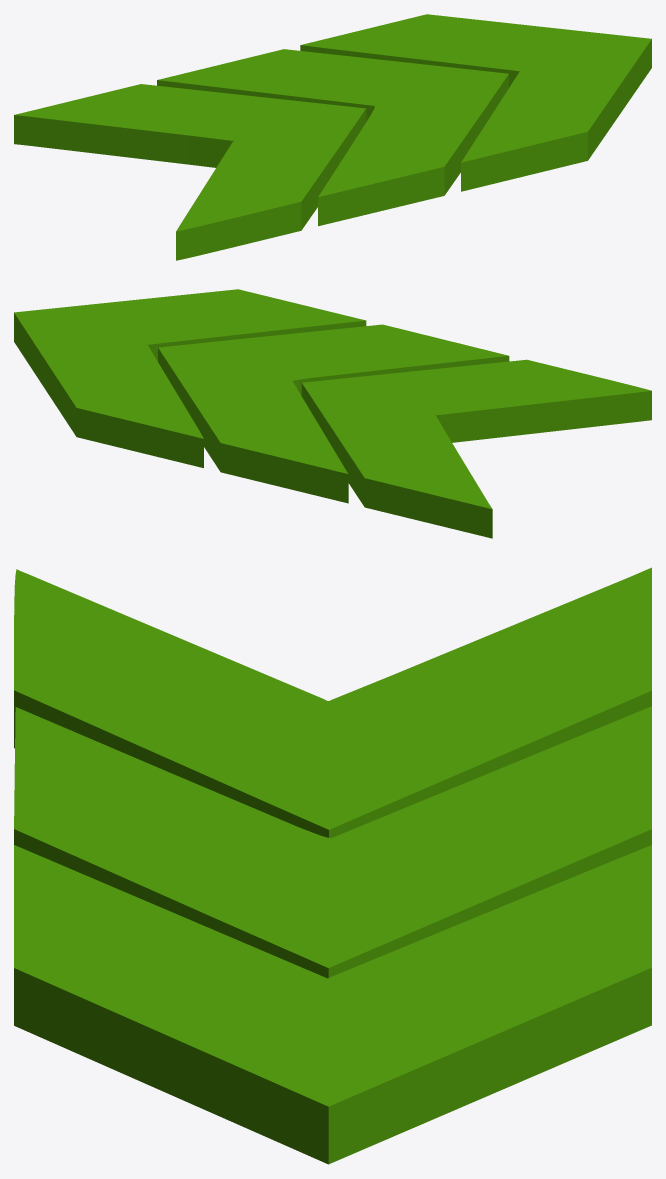
Rendered from arrow-3d.fbx.
3 renders of one model, top to bottom at view 1: azimuth 30°, elevation 25°; view 2: azimuth 150°, elevation 25°; view 3: azimuth 270°, elevation 25°, orthographic. The views are drawn at different scales.
Parts seen in each view (by area): view 1: arrow; view 2: arrow; view 3: arrow.
Boxes of the visible parts, box(x1,y1,x2,y2) form: arrow: box(14, 14, 651, 260); arrow: box(14, 289, 651, 538); arrow: box(14, 567, 651, 1164).
Bounding box in the file's own units: 20 × 1 × 10.
